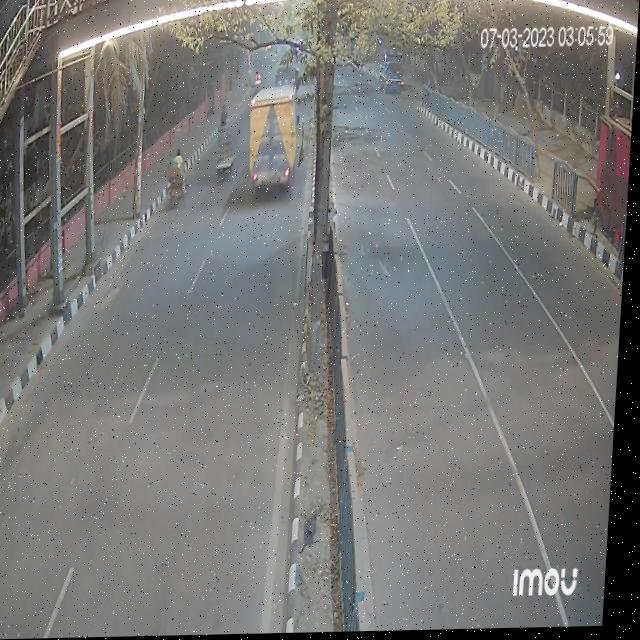rikshaw: (169, 144, 194, 211)
